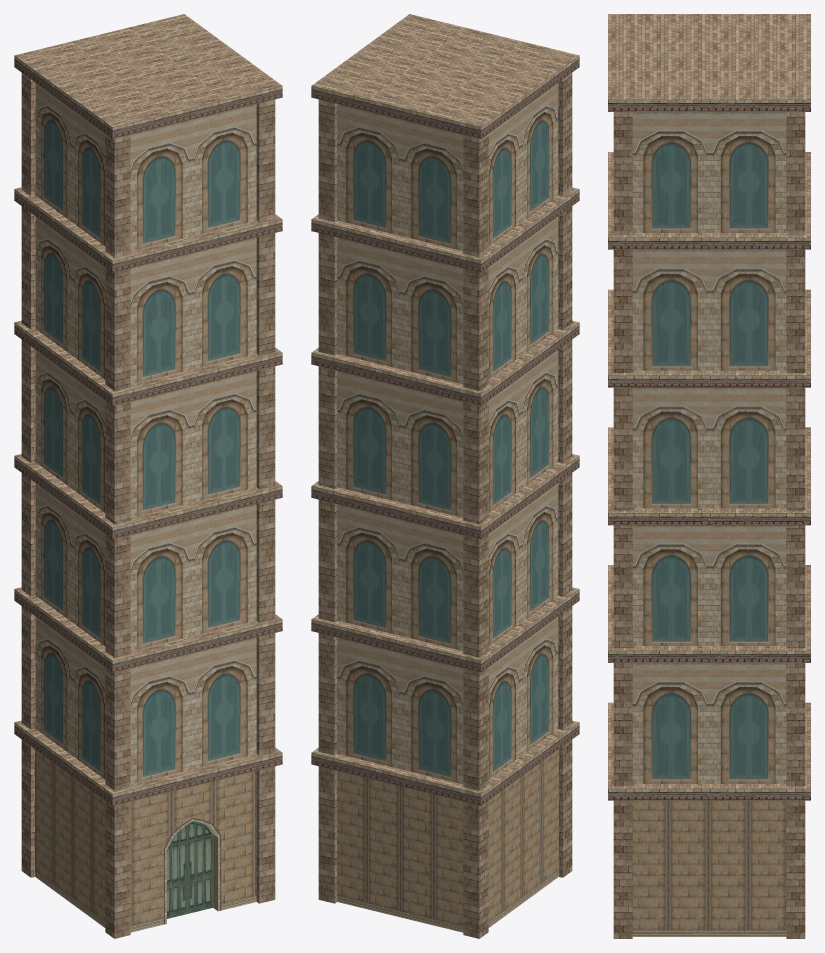
Rendered from thm_nboo_thed_imprv_building_s08_l1.fbx.
3 views of the same model, side by side, from view 1: azimuth 30°, elevation 25°; view 2: azimuth 150°, elevation 25°; view 3: azimuth 270°, elevation 25° (orthographic). The views are drawn at different scales.
Visible parts, largest first — view 1: mesh_node; view 2: mesh_node; view 3: mesh_node.
Part boxes in pixels (<box>): mesh_node: <box>14,14,282,938</box>; mesh_node: <box>311,14,579,938</box>; mesh_node: <box>608,14,810,938</box>.
Size of the model in its own units: 7.27 by 33.29 by 7.27.
